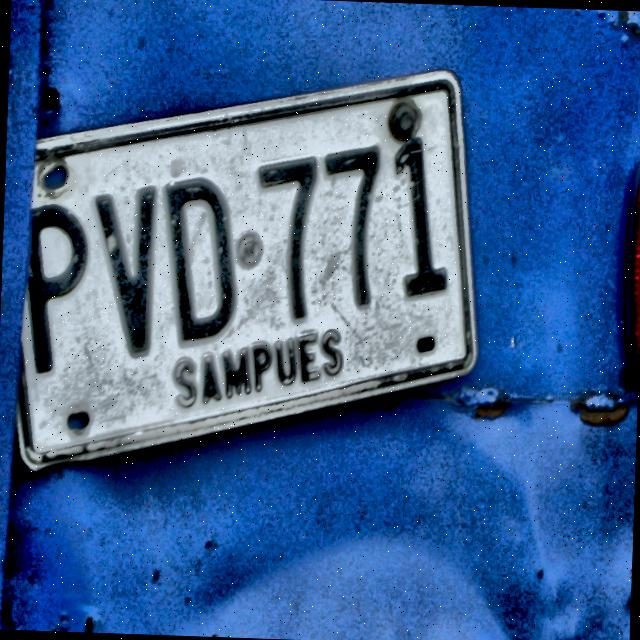1: (386, 127, 457, 310)
7: (251, 145, 332, 337), (321, 138, 394, 324)
D: (157, 159, 246, 352)
P: (15, 183, 105, 385)
V: (84, 176, 170, 372)
